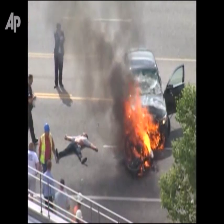fire_h: (123, 79, 164, 160)
fire_l: (140, 161, 149, 172)
